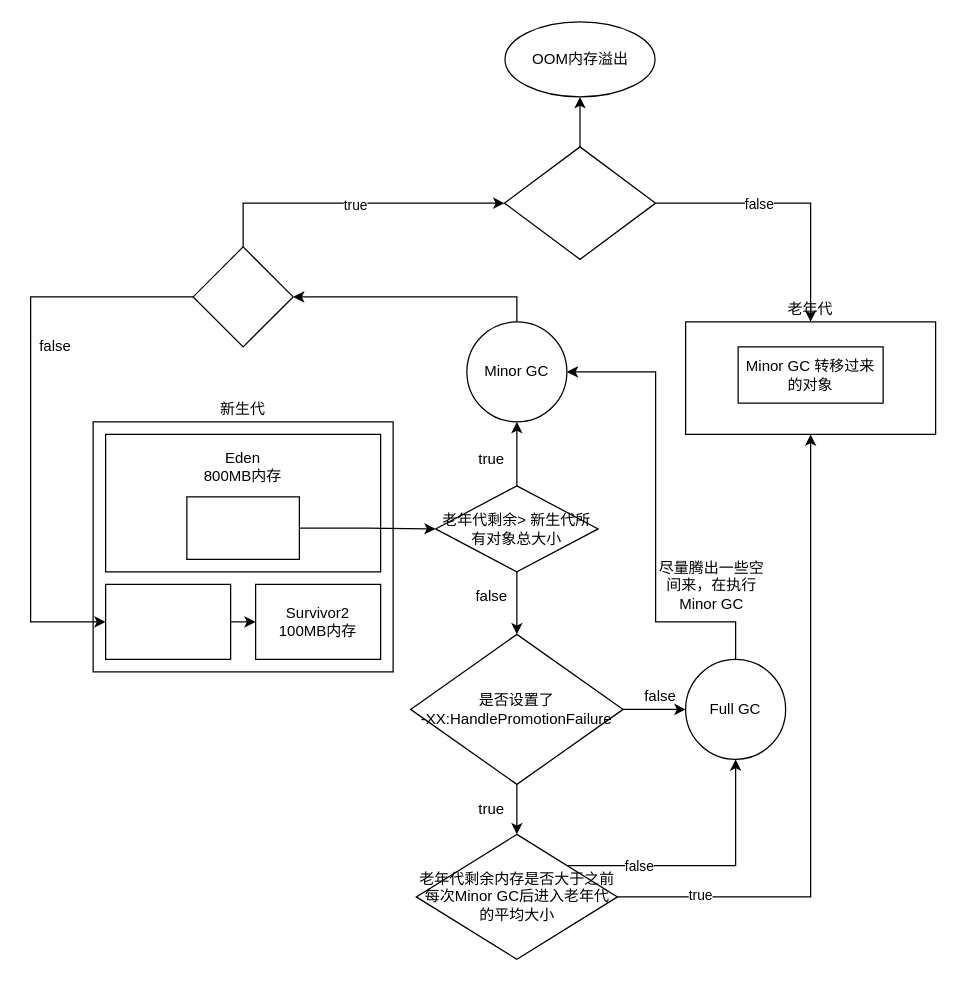
Some shapes in this 958 by 981 pixel diagram are drawn without their labels. The shapes that lost their labels are listed below. From the top down, each one's centre as x and y in pixels, then its label:
At (x=579, y=202): "存活对象是否大于老年大剩余内存".
At (x=242, y=296): "存活对象是否大于Survivor区内存".
At (x=242, y=527): "大量存活对象".
At (x=167, y=621): "Survivor1 100MB内存".
